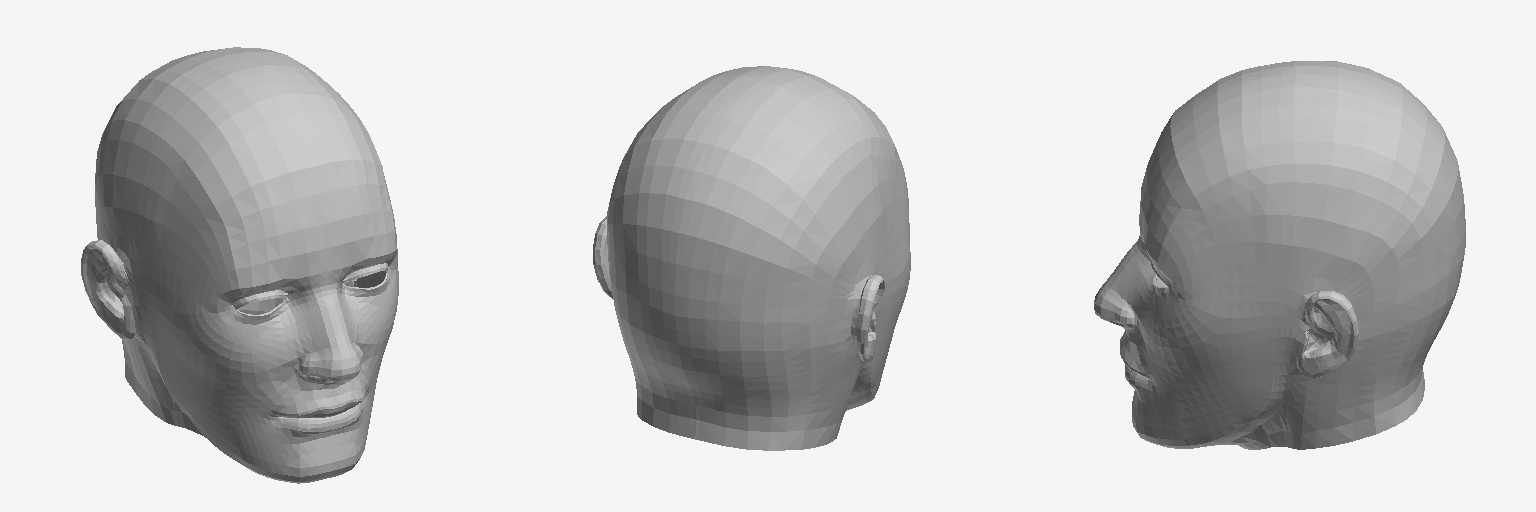
The model's file is male_head_triangulate.obj.
The picture shows the model from 3 angles: view 1: azimuth 30°, elevation 25°; view 2: azimuth 150°, elevation 25°; view 3: azimuth 270°, elevation 25°; orthographic projection.
Visible parts, largest first — view 1: object0; view 2: object0; view 3: object0.
Part boxes in pixels (left/top/right/bottom): object0: left=81, top=47, right=398, bottom=483; object0: left=593, top=66, right=910, bottom=450; object0: left=1094, top=61, right=1465, bottom=449.
Size of the model in its own units: 30.6 by 38.16 by 35.42.